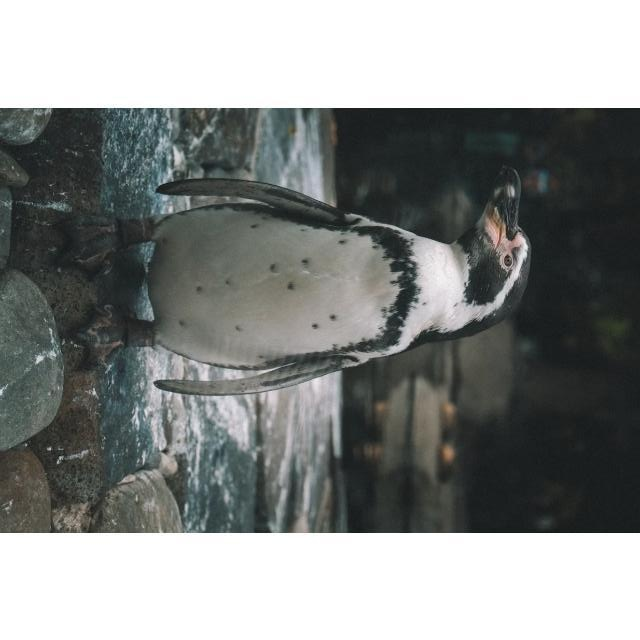penguin: (55, 164, 534, 399)
